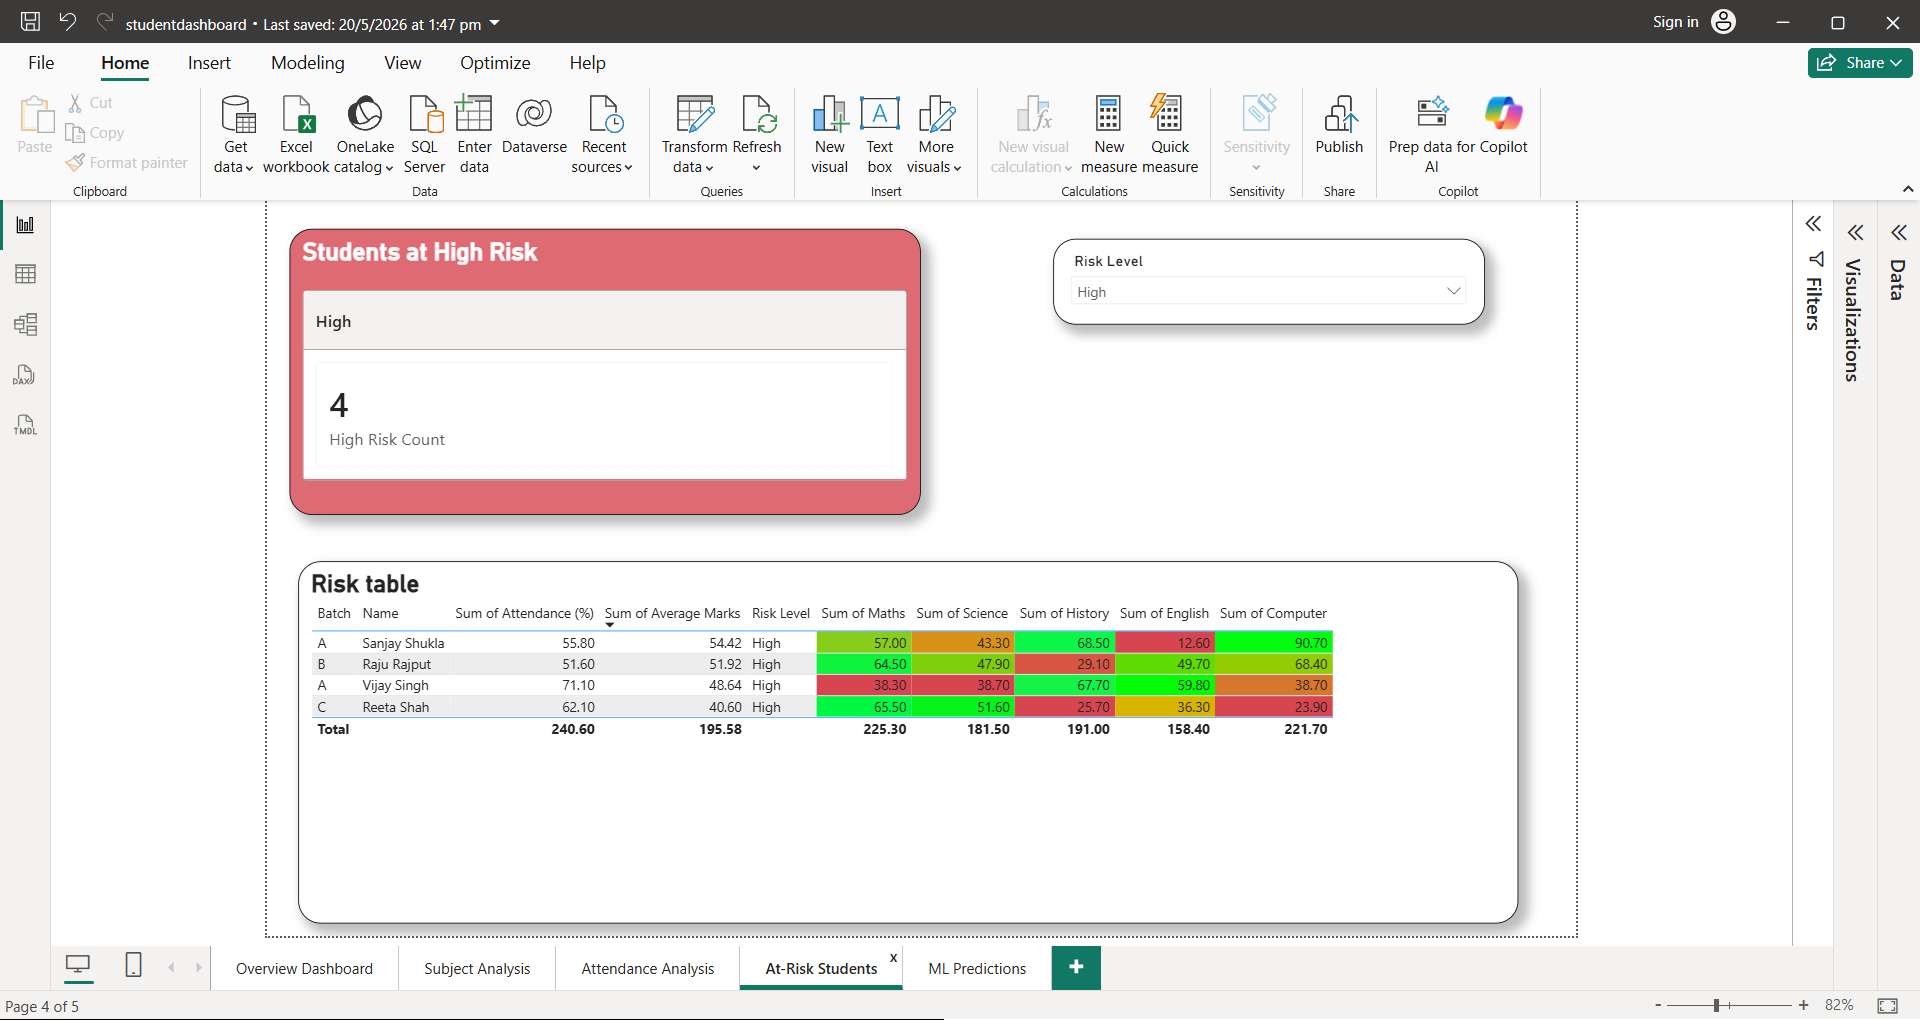

The dashboard page shown, as its layout file describes it:
{"tool":"powerbi","page":{"name":"At-Risk Students","canvas":[1280,720],"ordinal":3},"visuals":[{"type":"cardVisual","title":"Students at High Risk","fields":{"Rows":["Attendance Analysis.Risk Level"],"Data":["Student Data.High Risk Count"]},"box":[22.4,28.2,617.6,280.1],"z":0},{"type":"tableEx","title":"Risk table","fields":{"Values":["Student Data.Batch","Attendance Analysis.Name","Sum(Attendance Analysis.Attendance (%))","Sum(Attendance Analysis.Average Marks)","Attendance Analysis.Risk Level","Sum(Student Data.Maths)","Sum(Student Data.Science)","Sum(Student Data.History)","Sum(Student Data.English)","Sum(Student Data.Computer)"]},"box":[30.2,353.1,1193.4,354],"z":1000},{"type":"slicer","fields":{"Values":["Attendance Analysis.Risk Level"]},"box":[769.4,37.9,422.1,83.6],"z":2000}]}

Visuals, with their boxes on the page's 1280x720 design canvas (x1, y1, x2, y2). These are canvas units, not pixel positions in the 1920x1020 screenshot, which may show the page scaled, cropped or inside an application window:
"Students at High Risk" cardVisual: locate(22, 28, 640, 308)
"Risk table" tableEx: locate(30, 353, 1224, 707)
slicer - Attendance Analysis.Risk Level: locate(769, 38, 1192, 122)
